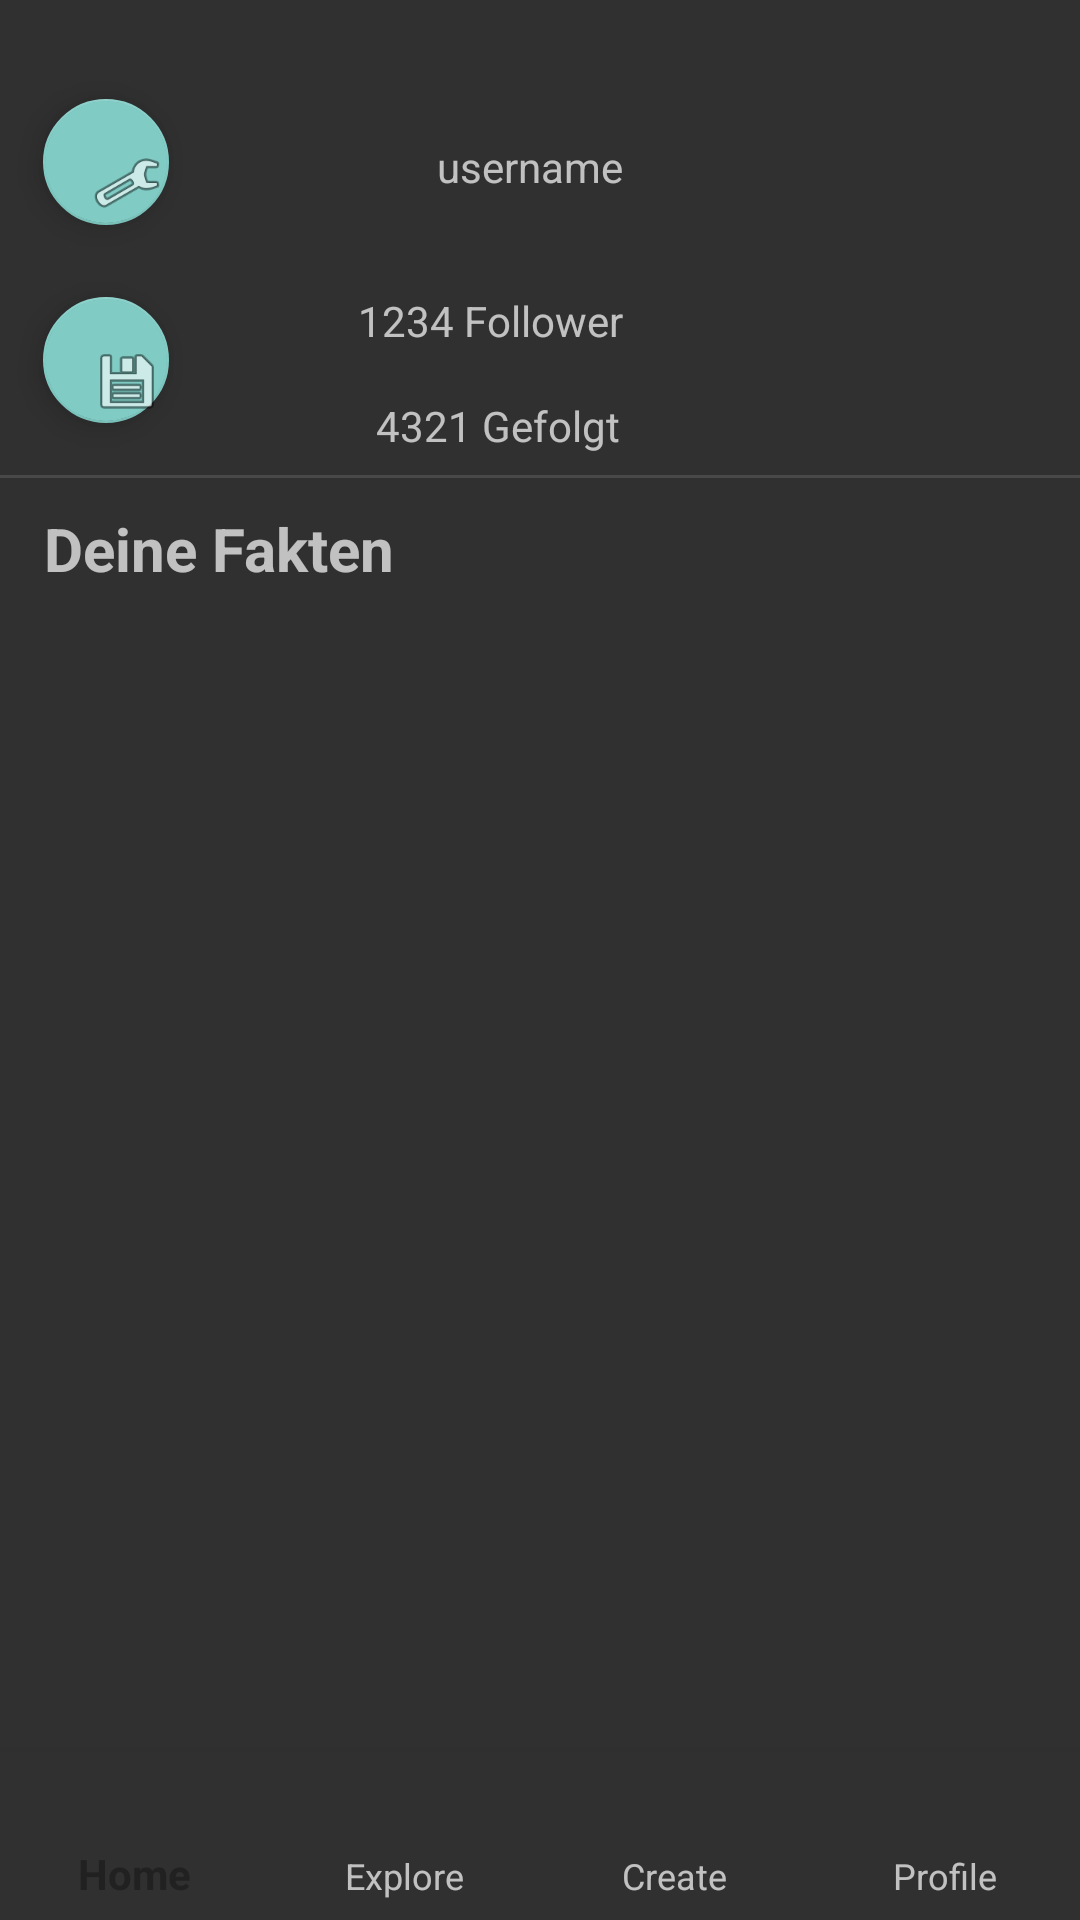

Screen size 1080 × 1920. Icon name, then its center in pixels as [x,y]:
preferences: [106,162]
save: [106,360]
